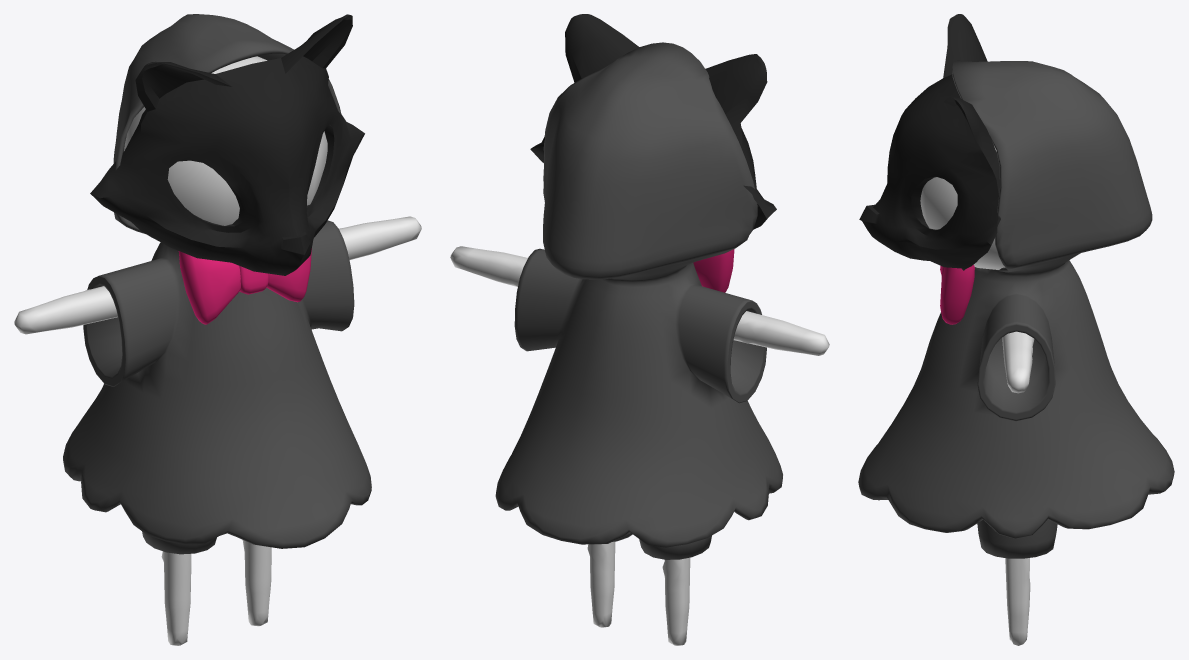
Rendered from Protagonista_juego_Nahual (1).fbx.
The picture shows the model from 3 angles, left to right: view 1: azimuth 30°, elevation 25°; view 2: azimuth 150°, elevation 25°; view 3: azimuth 270°, elevation 25°; orthographic projection. The views are drawn at different scales.
Visible parts, largest first — view 1: Cube.003, Circle.001, Cube.006, Plane, Cube.004, Cube.002, Cube.005, Cube.001; view 2: Cube.003, Circle.001, Cube.004, Cube.002, Cube.001, Cube.005, Cube.006; view 3: Cube.003, Circle.001, Plane, Cube.001, Cube.006, Cube.005.
Part boxes in pixels (x1,y1,x2,y2): Cube.003: [63, 14, 371, 554]; Circle.001: [90, 14, 364, 275]; Cube.006: [178, 248, 311, 324]; Plane: [124, 56, 327, 225]; Cube.004: [14, 286, 117, 334]; Cube.002: [161, 551, 191, 645]; Cube.005: [339, 216, 421, 260]; Cube.001: [242, 540, 271, 626]; Cube.003: [495, 42, 782, 559]; Circle.001: [530, 14, 776, 229]; Cube.004: [733, 311, 829, 355]; Cube.002: [662, 557, 690, 645]; Cube.001: [587, 541, 615, 627]; Cube.005: [450, 246, 527, 286]; Cube.006: [693, 249, 734, 292]; Cube.003: [858, 60, 1174, 558]; Circle.001: [859, 14, 1000, 270]; Plane: [920, 146, 1005, 269]; Cube.001: [1005, 558, 1030, 645]; Cube.006: [940, 265, 974, 324]; Cube.005: [1002, 331, 1034, 393].
Bounding box in the file's own units: 157 × 230 × 116.
